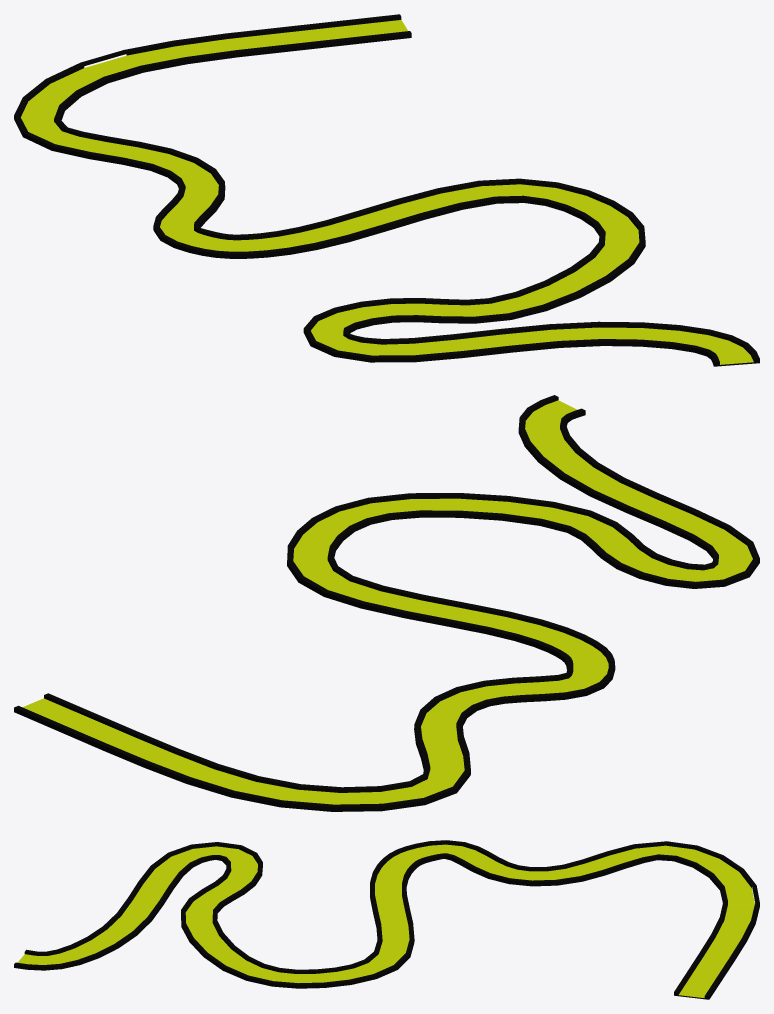
File: staticMesh_Rail.fbx
3 renders of one model, top to bottom at view 1: azimuth 30°, elevation 25°; view 2: azimuth 150°, elevation 25°; view 3: azimuth 270°, elevation 25°, orthographic. The views are drawn at different scales.
Parts seen in each view (by area): view 1: pCube48; view 2: pCube48; view 3: pCube48.
Part boxes in pixels (left/top/right/bottom): pCube48: left=14, top=14, right=759, bottom=366; pCube48: left=14, top=395, right=759, bottom=811; pCube48: left=14, top=840, right=759, bottom=999.
Bounding box in the file's own units: 377 × 4.38 × 762.
